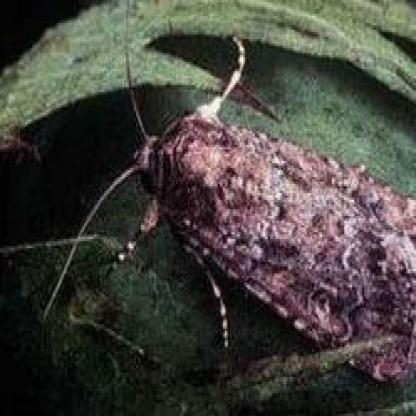armyworm: (89, 11, 416, 390)
